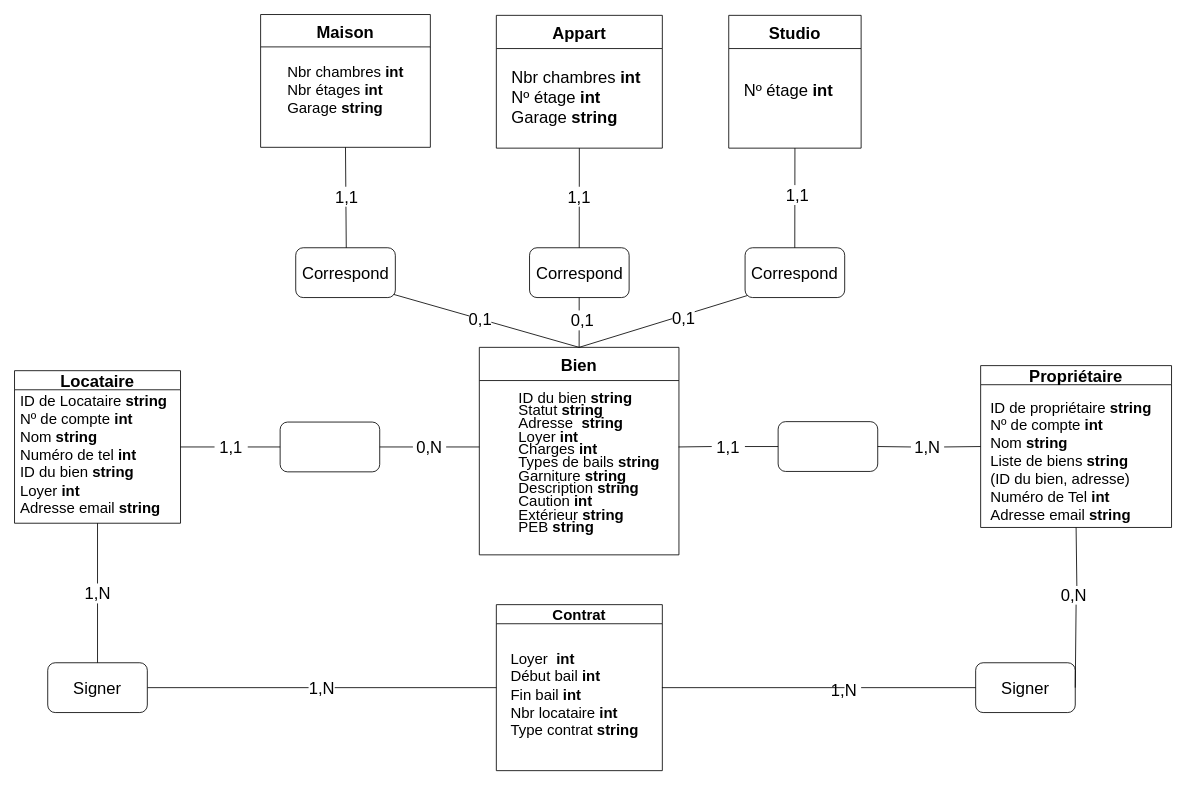
The diagram is 1186 pixels wide and 785 high, and some of its shapes have lost their labels. Here are the shapes that lost their labels. From the top down, the centre of each, then its label:
(x=329, y=446): Louer
(x=827, y=446): Posséder
